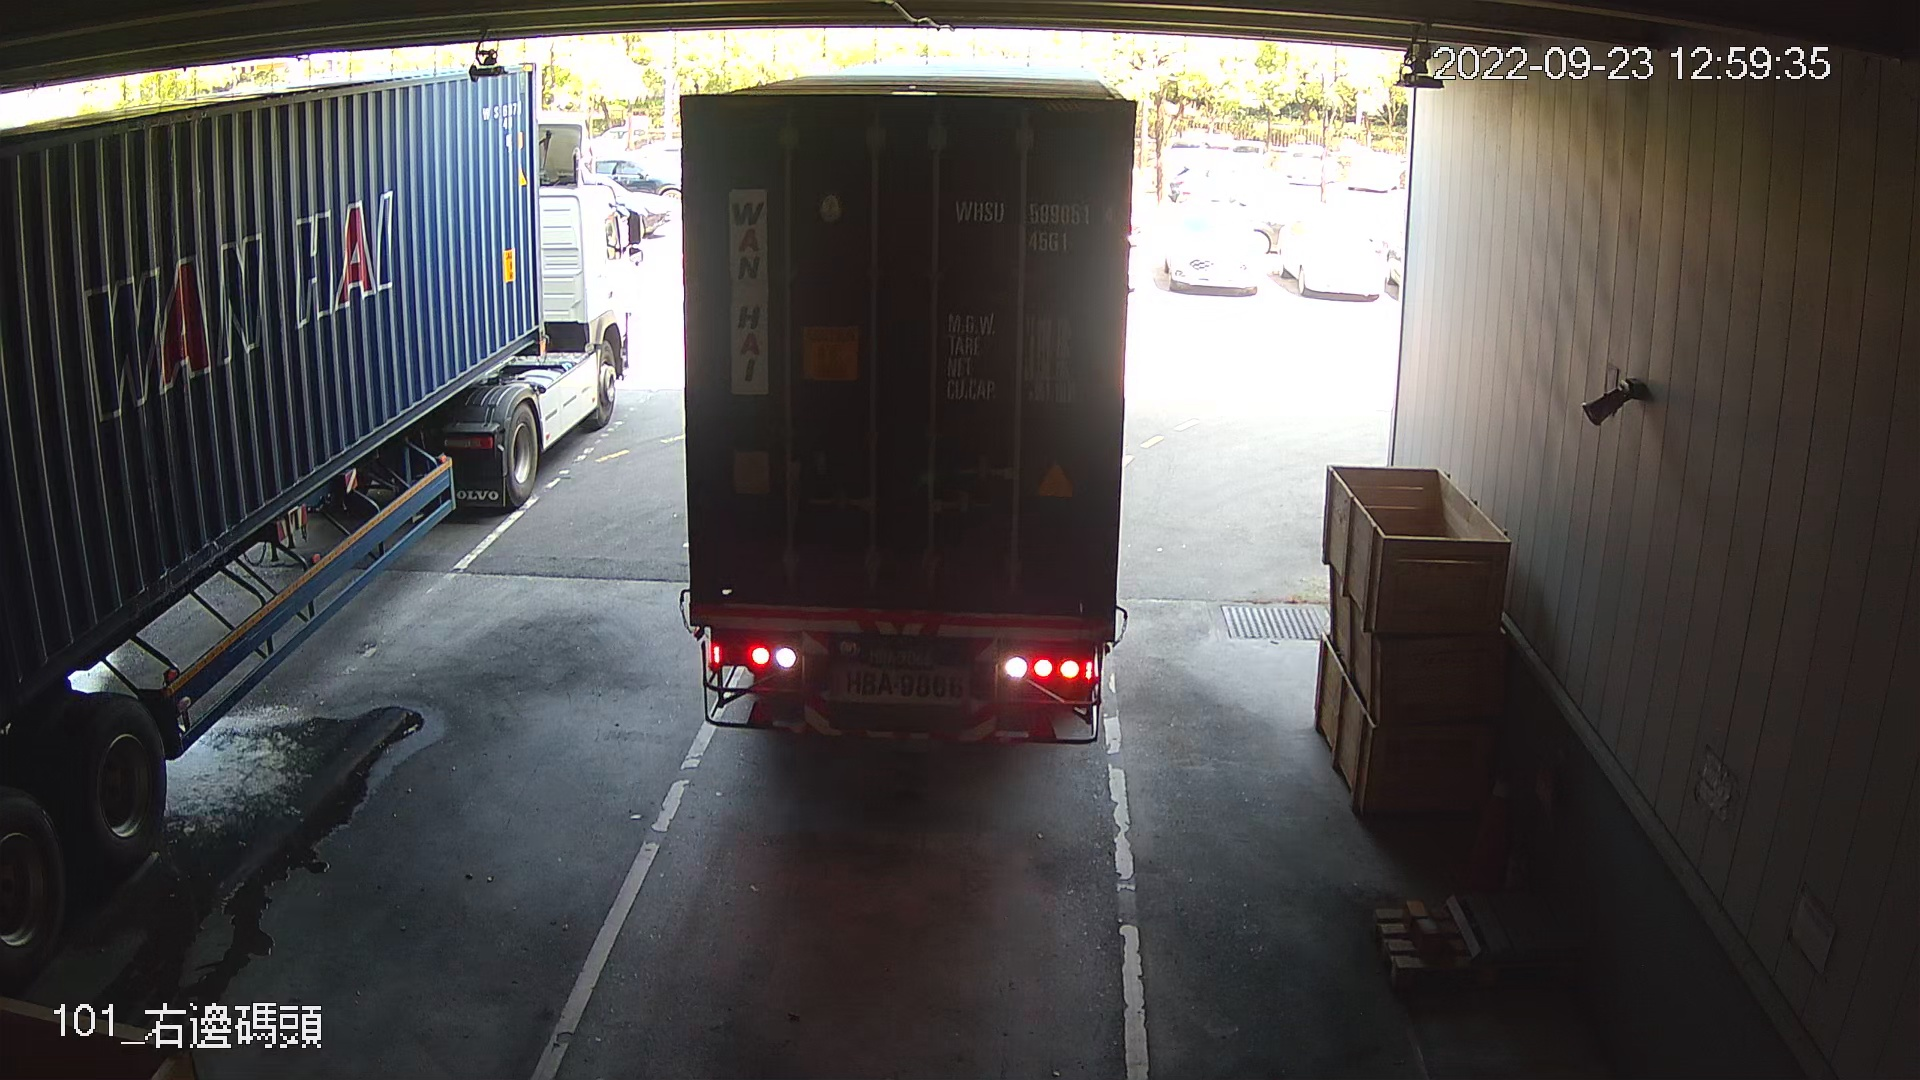container: (949, 186, 1120, 264)
